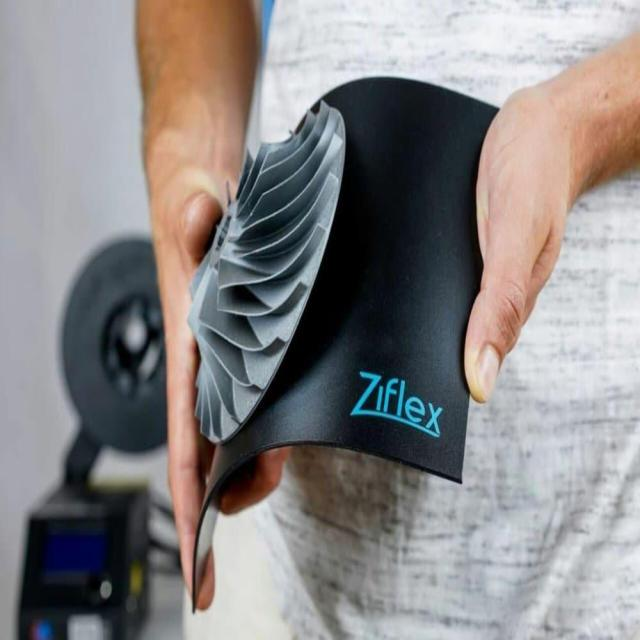Without deffect: (178, 103, 352, 434)
